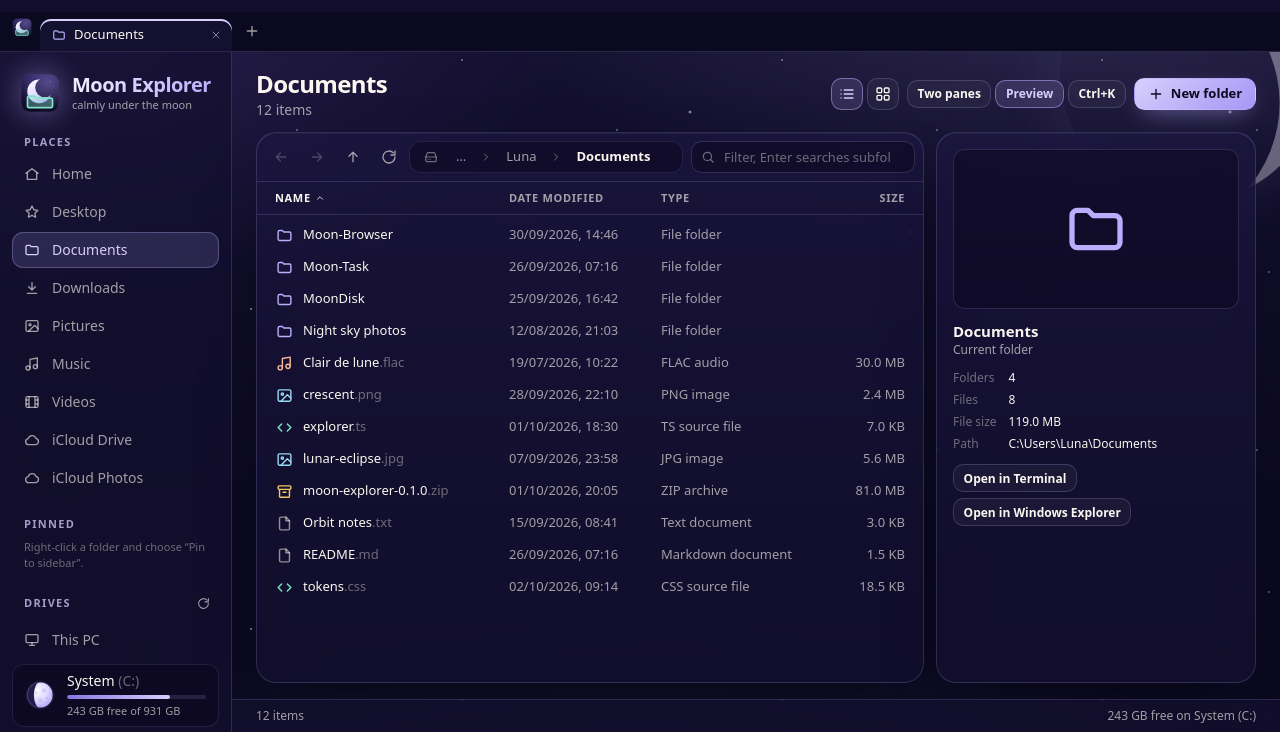
it: drive space › refreshes the drives' free space from the sidebar
The width and height of the screenshot is (1280, 732).
Expected: the text "145 GB free of" is not shown
Click the button named "Refresh drives".
click(203, 604)  # box 191,592 -> 215,616
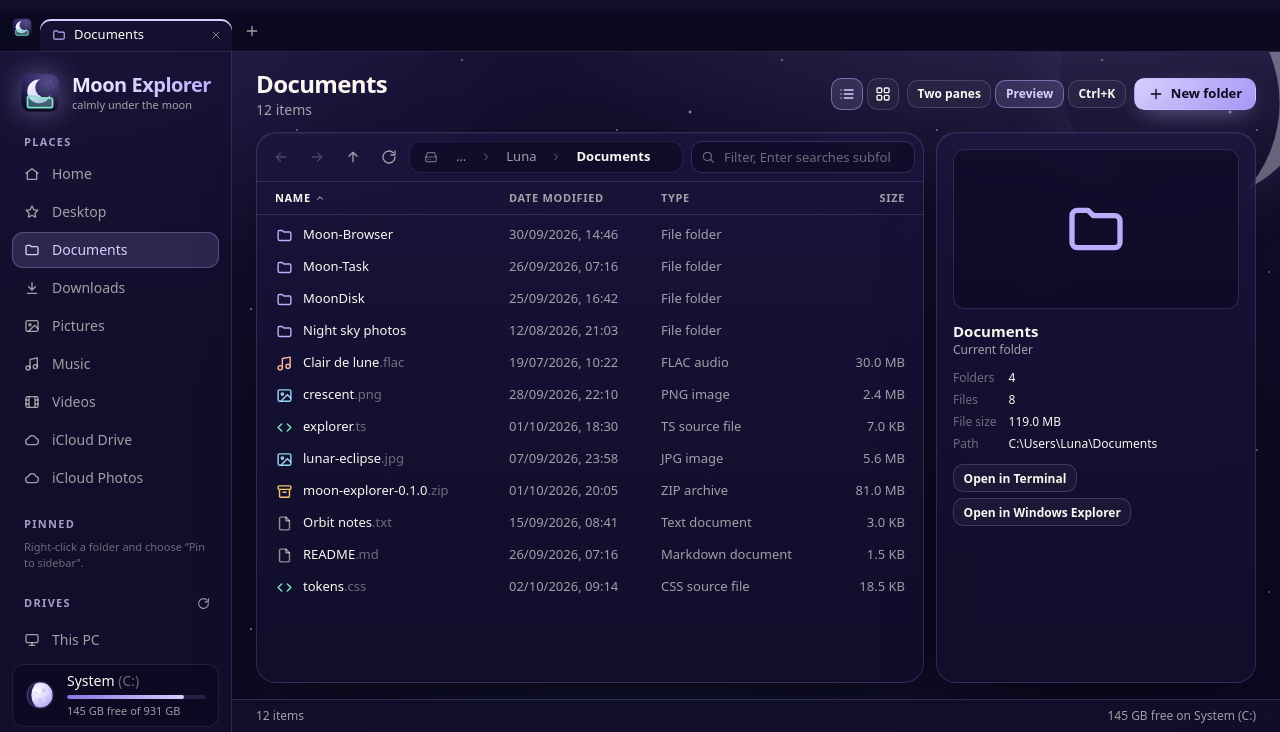
Expected: the text "145 GB free of 931 GB" is shown, 67,703 -> 180,718
